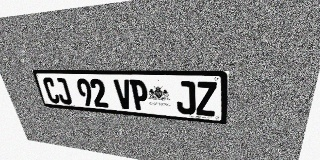2: (89, 79, 109, 108)
9: (75, 78, 95, 107)
C: (42, 77, 61, 104)
J: (175, 81, 196, 115), (53, 78, 73, 105)
P: (129, 80, 150, 111)
V: (113, 79, 133, 110)
Z: (196, 81, 217, 117)
